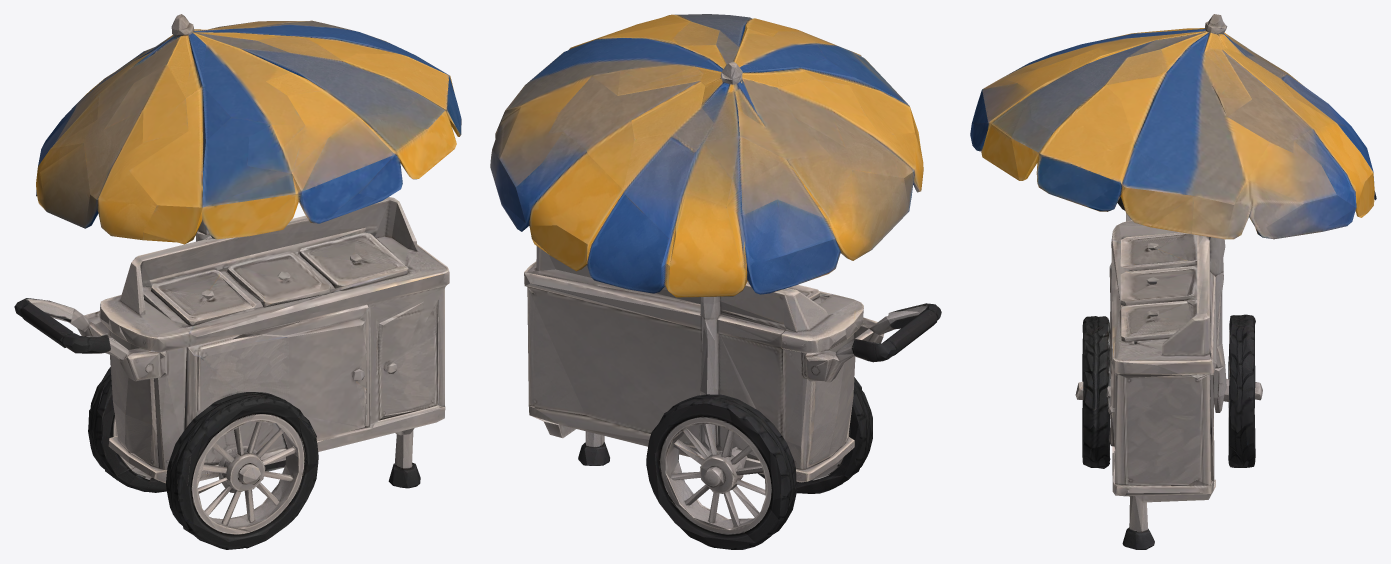
The model's file is hotdog-cart.glb.
3 renders of one model, left to right at view 1: azimuth 30°, elevation 25°; view 2: azimuth 150°, elevation 25°; view 3: azimuth 270°, elevation 25°, orthographic. The views are drawn at different scales.
Size of the model in its own units: 1.74 by 2 by 1.65.
1 material, 1 textured.
